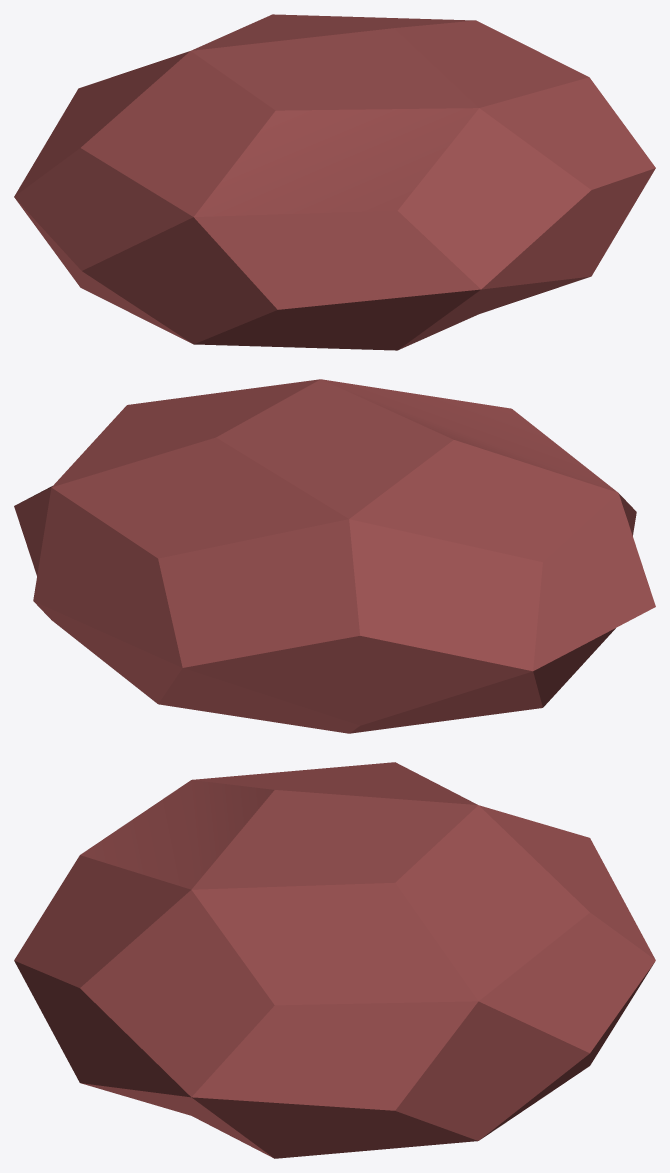
Rendered from red bush.fbx.
3 renders of one model, top to bottom at view 1: azimuth 30°, elevation 25°; view 2: azimuth 150°, elevation 25°; view 3: azimuth 270°, elevation 25°, orthographic. The views are drawn at different scales.
Visible parts, largest first — view 1: polySurface16; view 2: polySurface16; view 3: polySurface16.
Boxes of the visible parts, x1,y1,x2,y2 form: polySurface16: (14, 14, 655, 350); polySurface16: (14, 379, 655, 733); polySurface16: (14, 762, 655, 1158).
Size of the model in its own units: 330 by 127 by 298.
